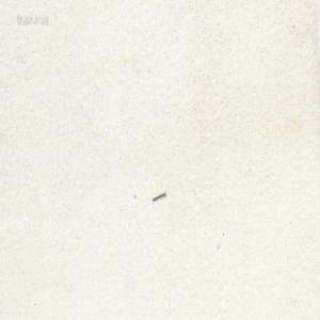Bolttrack_idkeyframe: (150, 188, 165, 200)
